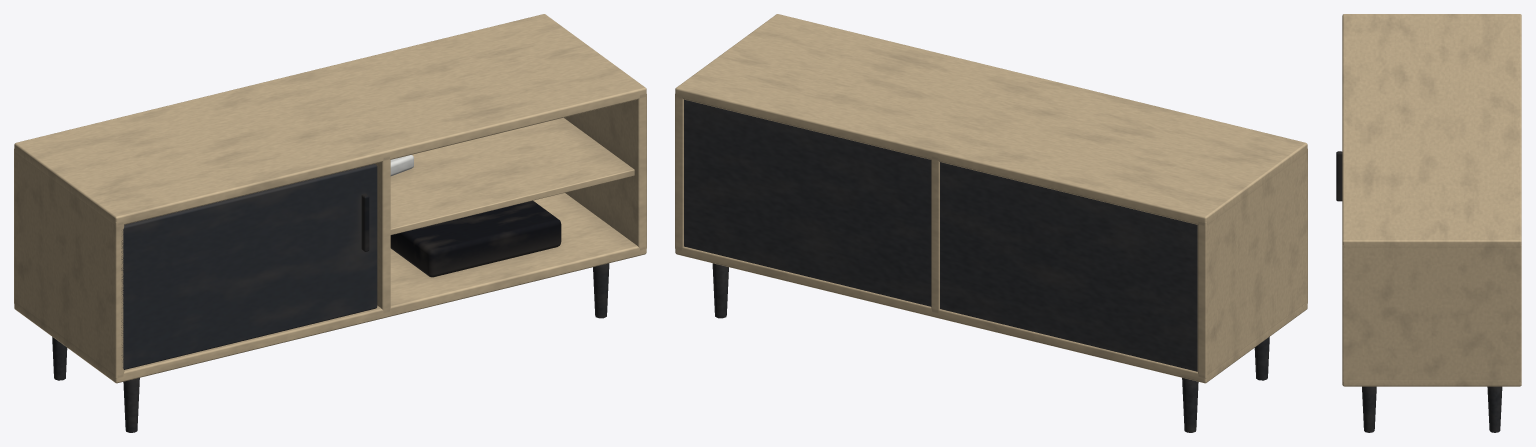
File: dom_szafka_tv.glb
3 renders of one model, left to right at view 1: azimuth 30°, elevation 25°; view 2: azimuth 150°, elevation 25°; view 3: azimuth 270°, elevation 25°, orthographic. The views are drawn at different scales.
Parts seen in each view (by area): view 1: Szafka; view 2: Szafka; view 3: Szafka.
Boxes of the visible parts, x1=… form: Szafka: x1=14, y1=14, x2=646, y2=432; Szafka: x1=675, y1=14, x2=1307, y2=432; Szafka: x1=1336, y1=14, x2=1521, y2=432.
Size of the model in its own units: 1.2 by 0.5 by 0.414.
Materials: 1 (1 with a texture image).
